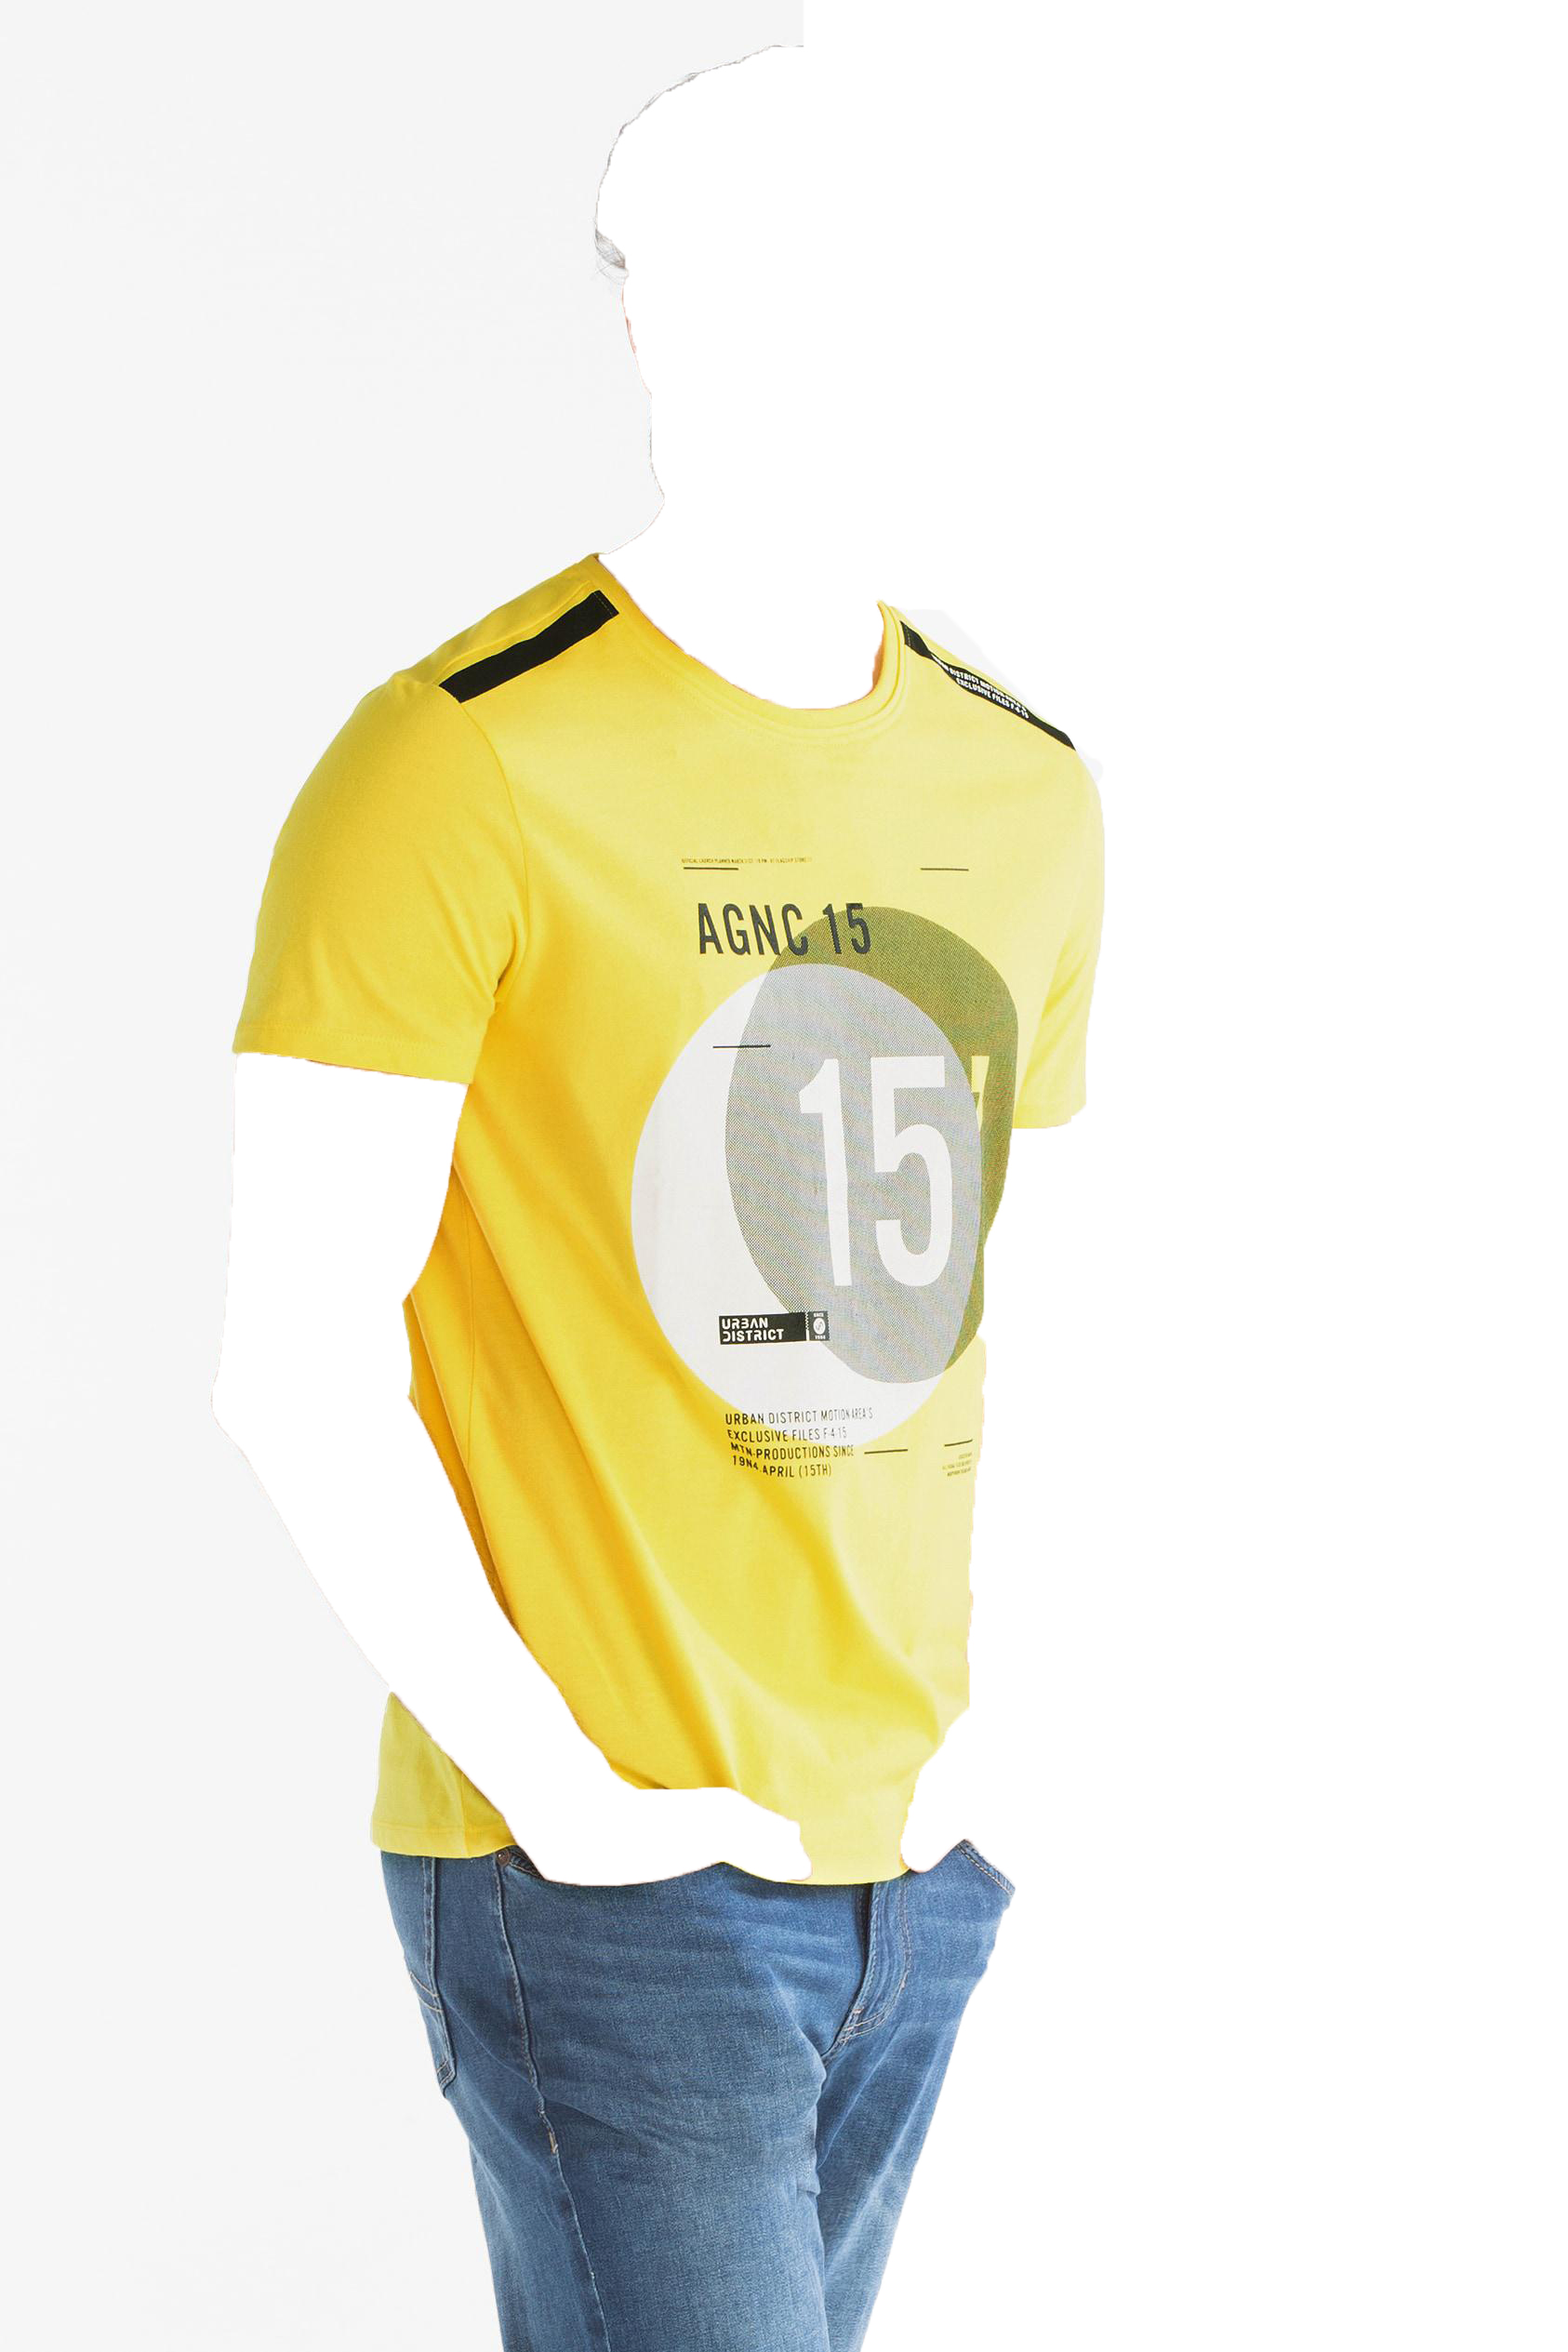teeshirt: (224, 535, 1150, 1899)
